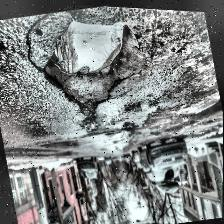pothole: (30, 2, 144, 124)
